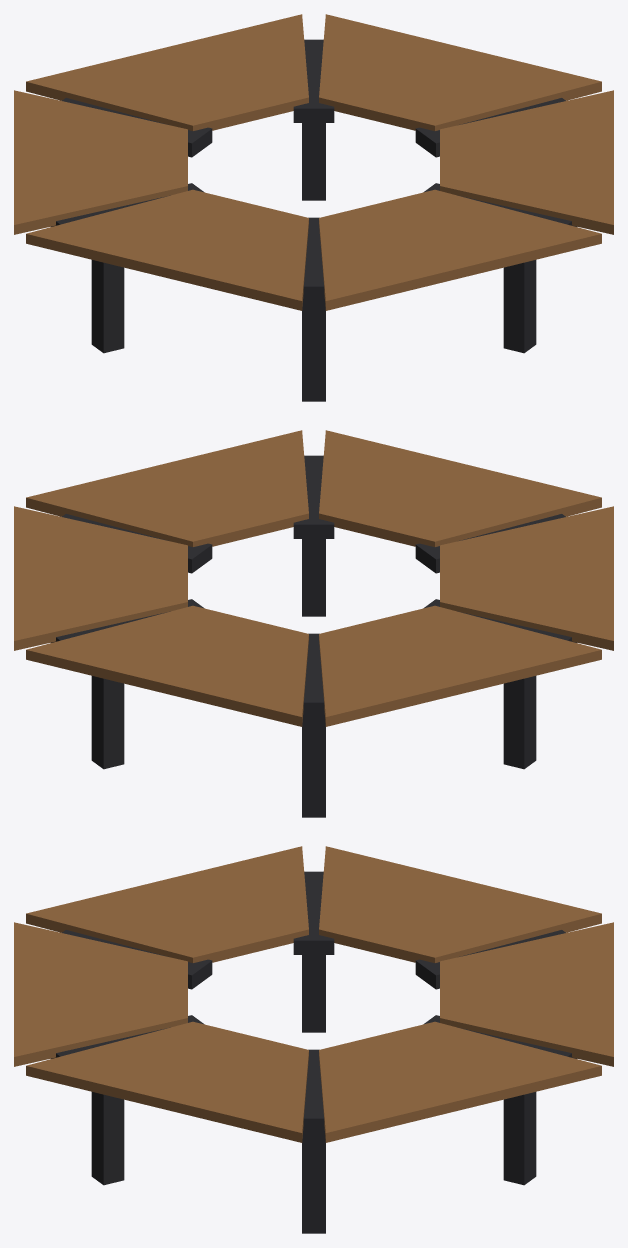
Rendered from FN_Bench_Tree.obj.
3 renders of one model, top to bottom at view 1: azimuth 30°, elevation 25°; view 2: azimuth 150°, elevation 25°; view 3: azimuth 270°, elevation 25°, orthographic.
Parts seen in each view (by area): view 1: FN_Bench_Tree; view 2: FN_Bench_Tree; view 3: FN_Bench_Tree.
Boxes of the visible parts, <box> form: FN_Bench_Tree: <box>14,14,613,401</box>; FN_Bench_Tree: <box>14,430,613,817</box>; FN_Bench_Tree: <box>14,846,613,1233</box>.
Size of the model in its own units: 2 by 0.45 by 1.77.
1 material, 1 textured.
